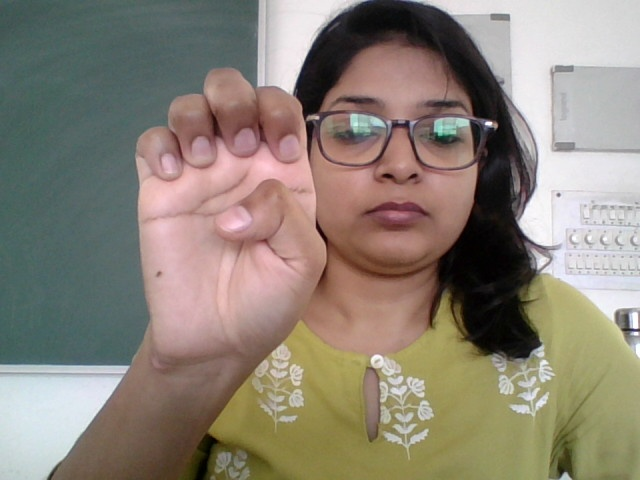E: (124, 66, 335, 384)
